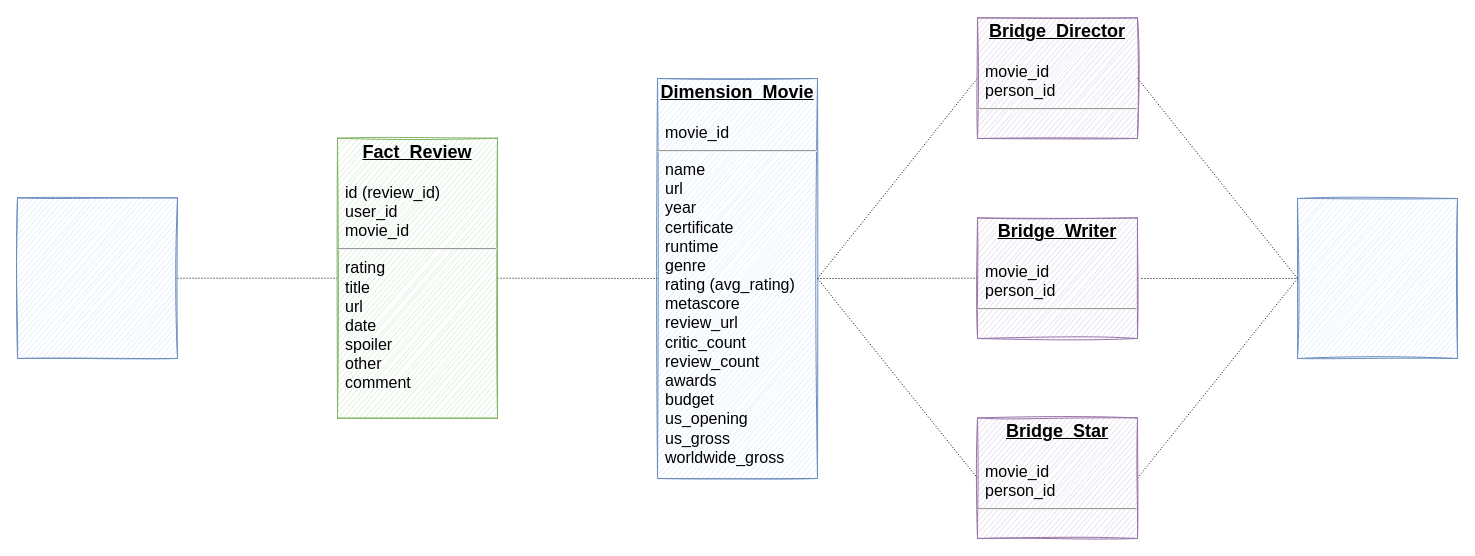
Image size: 1475x556. Some labels were removed from this diagram. The shapes that lost their labels are listed below. From the top down, each one's box as (x1, y1, x2, y2) in pixels, then its label:
(16, 197, 178, 358): Dimension_User user_id user_name user_url
(1296, 198, 1458, 358): Dimension_Person person_id person_name person_url
